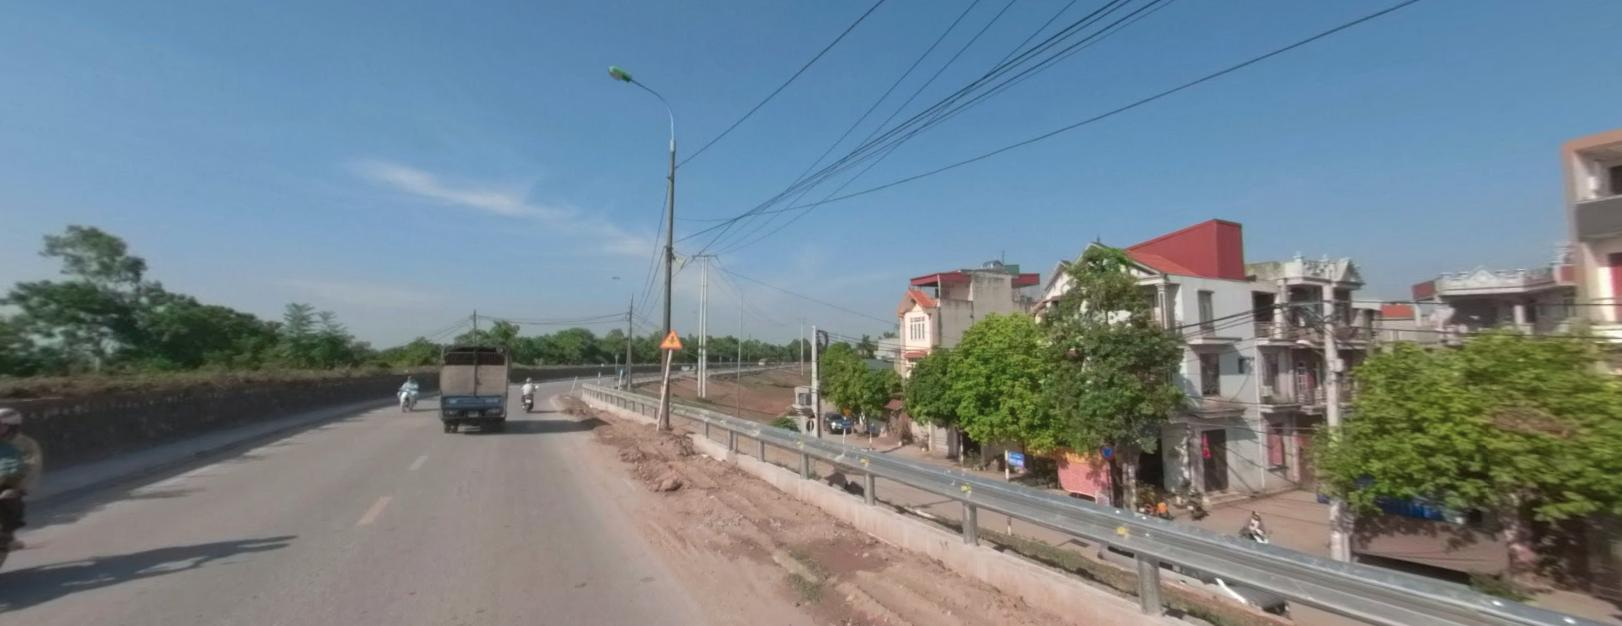Cam dung va do: (1099, 442, 1115, 458)
Nguy hiem: (659, 327, 682, 346), (842, 406, 850, 415)
